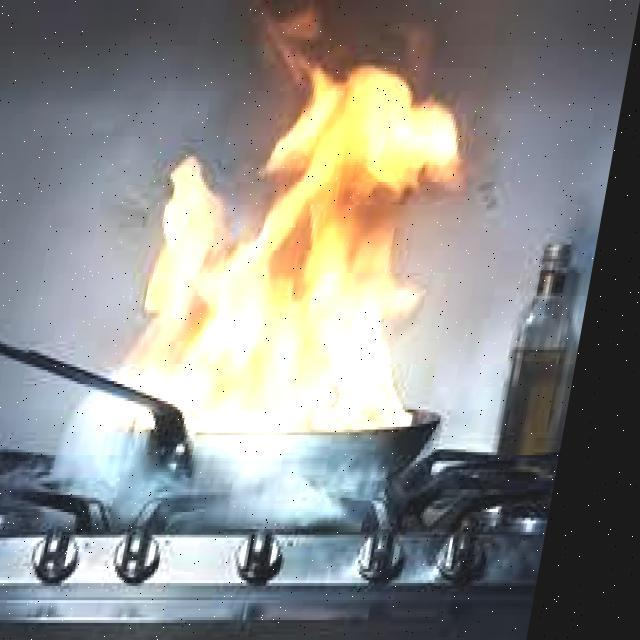Fire: (125, 62, 518, 441)
